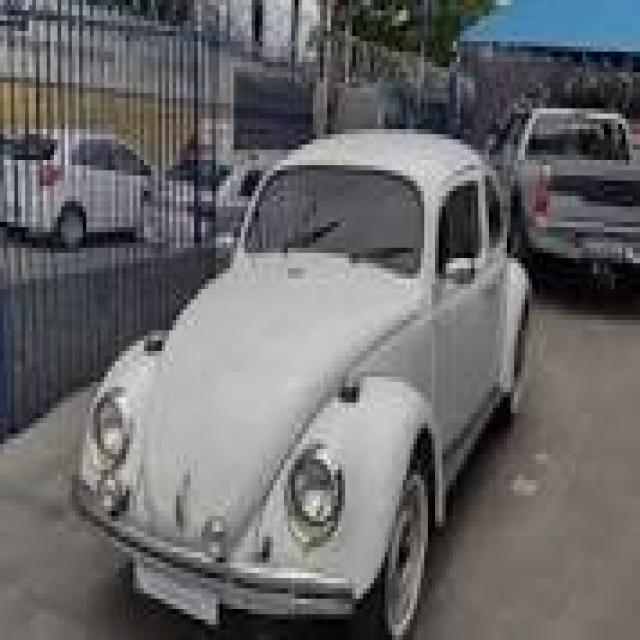0: (486, 85, 640, 297)
cars: (68, 113, 535, 640)
